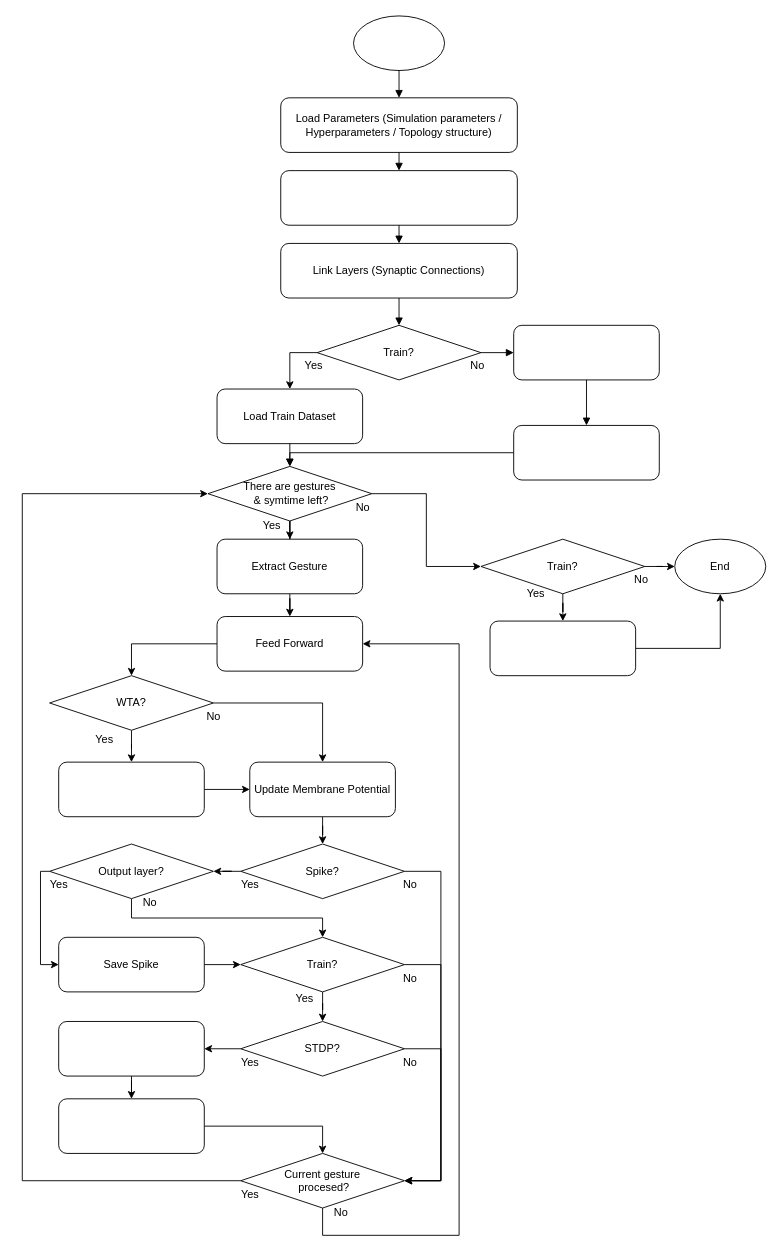
Some shapes in this 782 by 1259 pixel diagram are drawn without their labels. Here are the shapes that lost their labels. From the top down, the centre of each, then its label:
(399,43): Start
(398,197): Initialize Layers
(586,352): Load Weights
(586,452): Load Test Dataset
(562,648): Save Weights
(131,789): WTA
(131,1048): STDP
(131,1125): MSE
